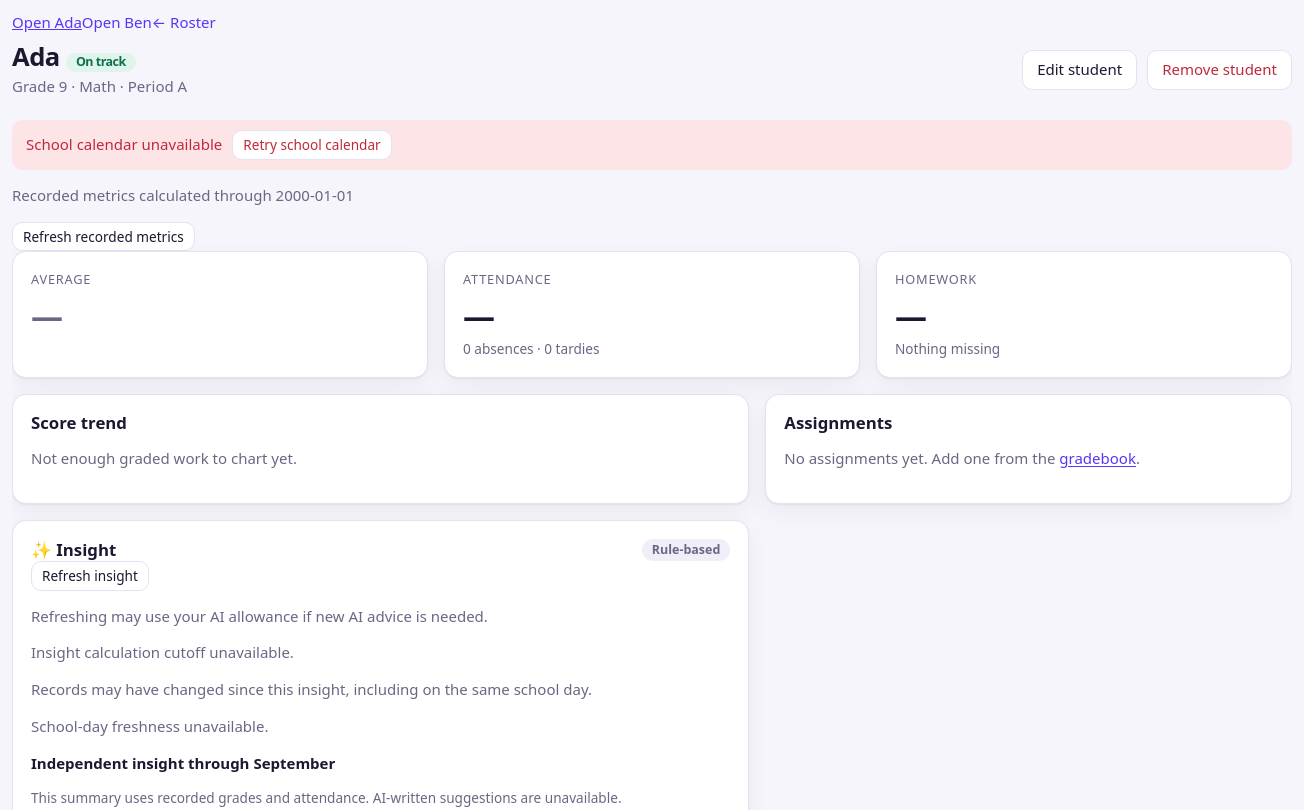
Test: retains empty response metrics and exposes independent calendar recovery without a browser date fallback
This screenshot has width=1304, height=810.
Expected: the text "Recorded metrics calculated through 2000-01-01" is shown, [12,185,354,205]
Expected: the text "School calendar unavailable" is shown, [26,134,222,156]
Step 1. Click the button "Retry school calendar" → click(312, 145), box [232,130,392,160]
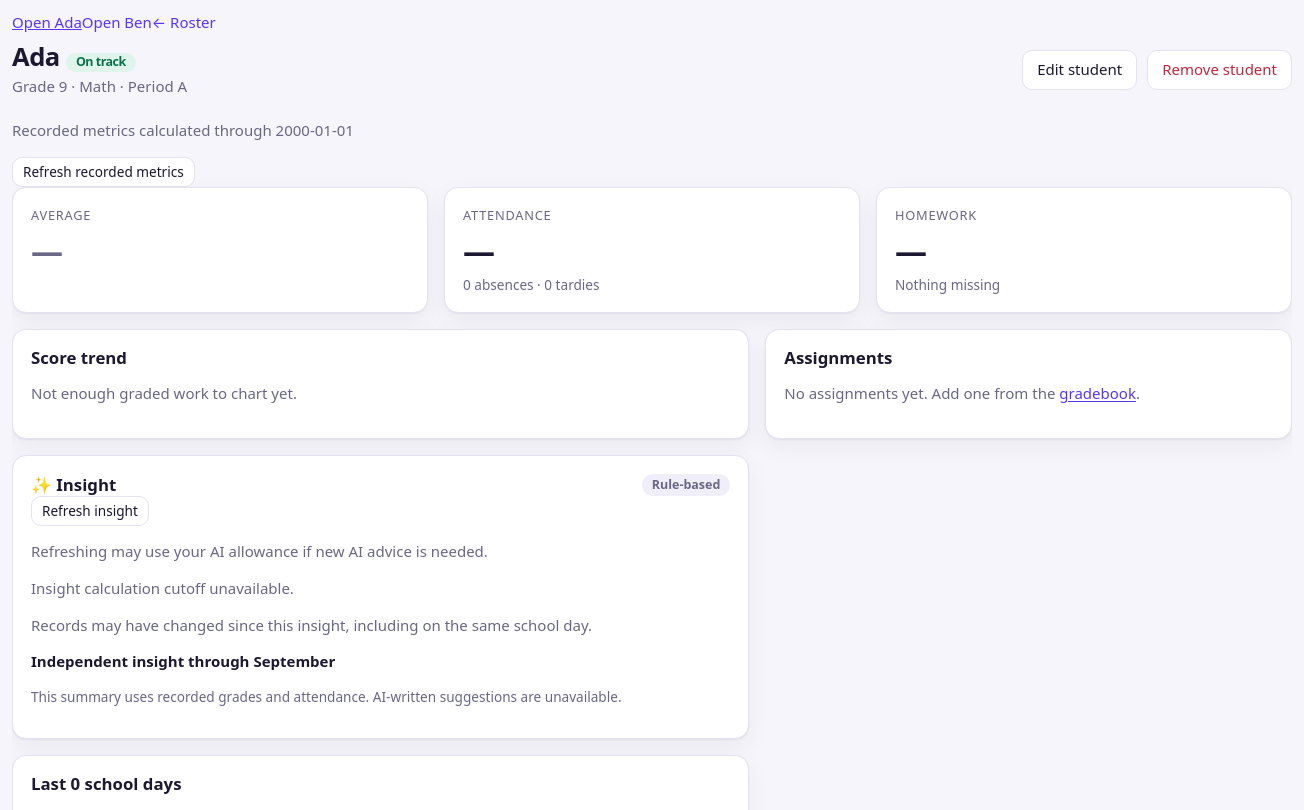
Now the text "School calendar unavailable" is gone
